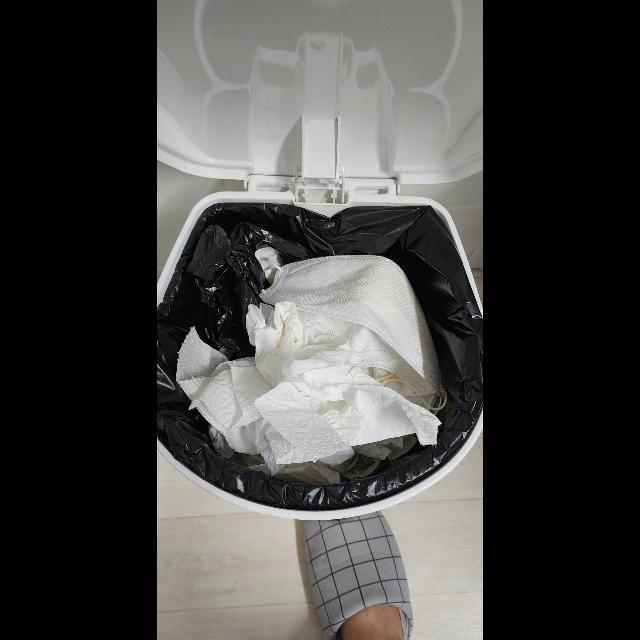paper: (246, 302, 442, 465), (176, 327, 341, 487)
